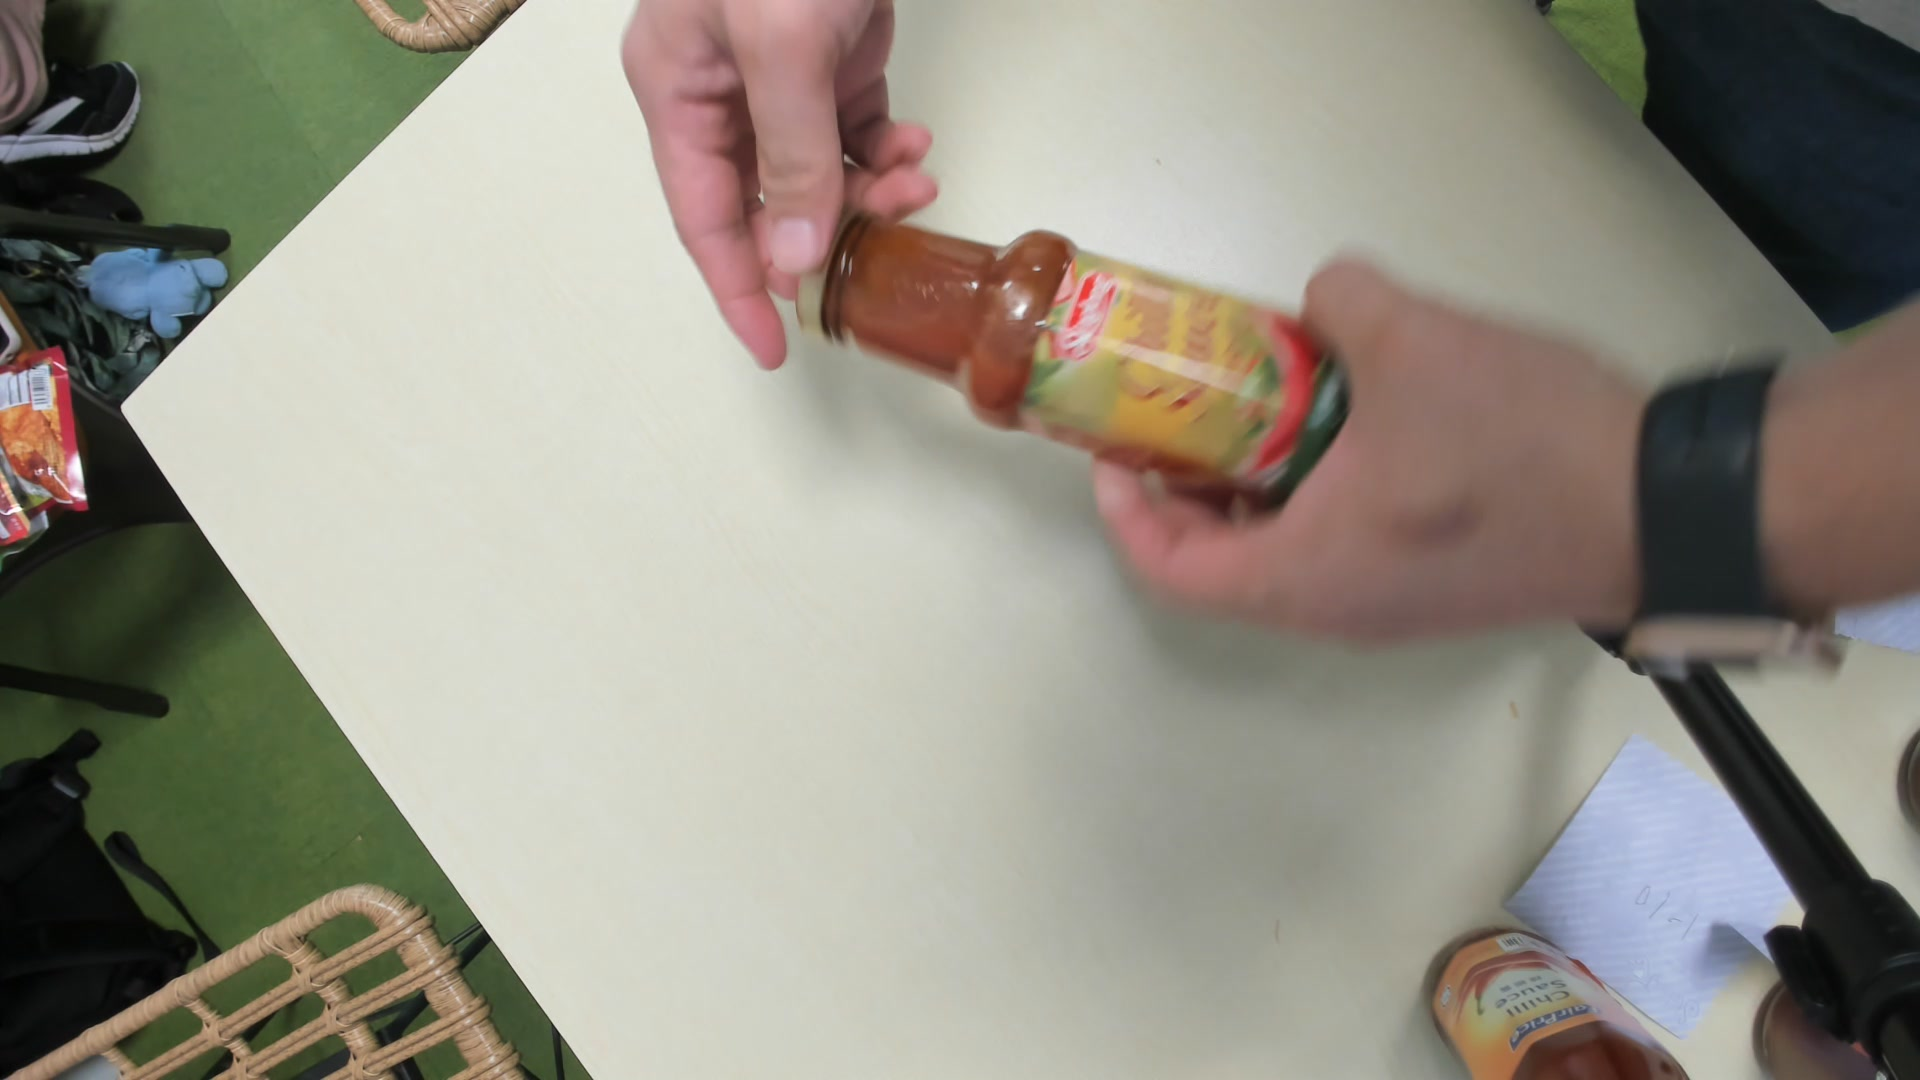KetchupChillSauce_200-299g_Halal_NonHealthy: (798, 208, 1364, 506)
